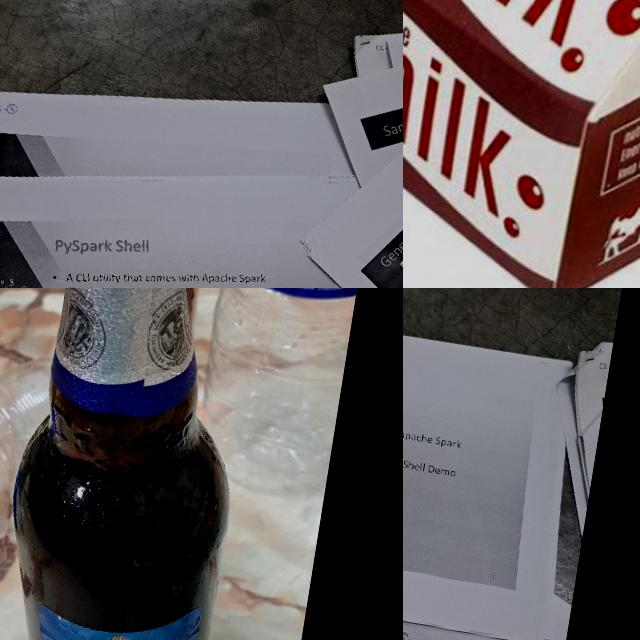caixinha: (403, 0, 640, 288)
garrafa de vidro: (0, 288, 291, 640)
garrafa plástica: (184, 288, 376, 506), (0, 331, 62, 604)
papel: (0, 0, 403, 288), (403, 288, 610, 640), (403, 526, 572, 640), (542, 333, 614, 572)
